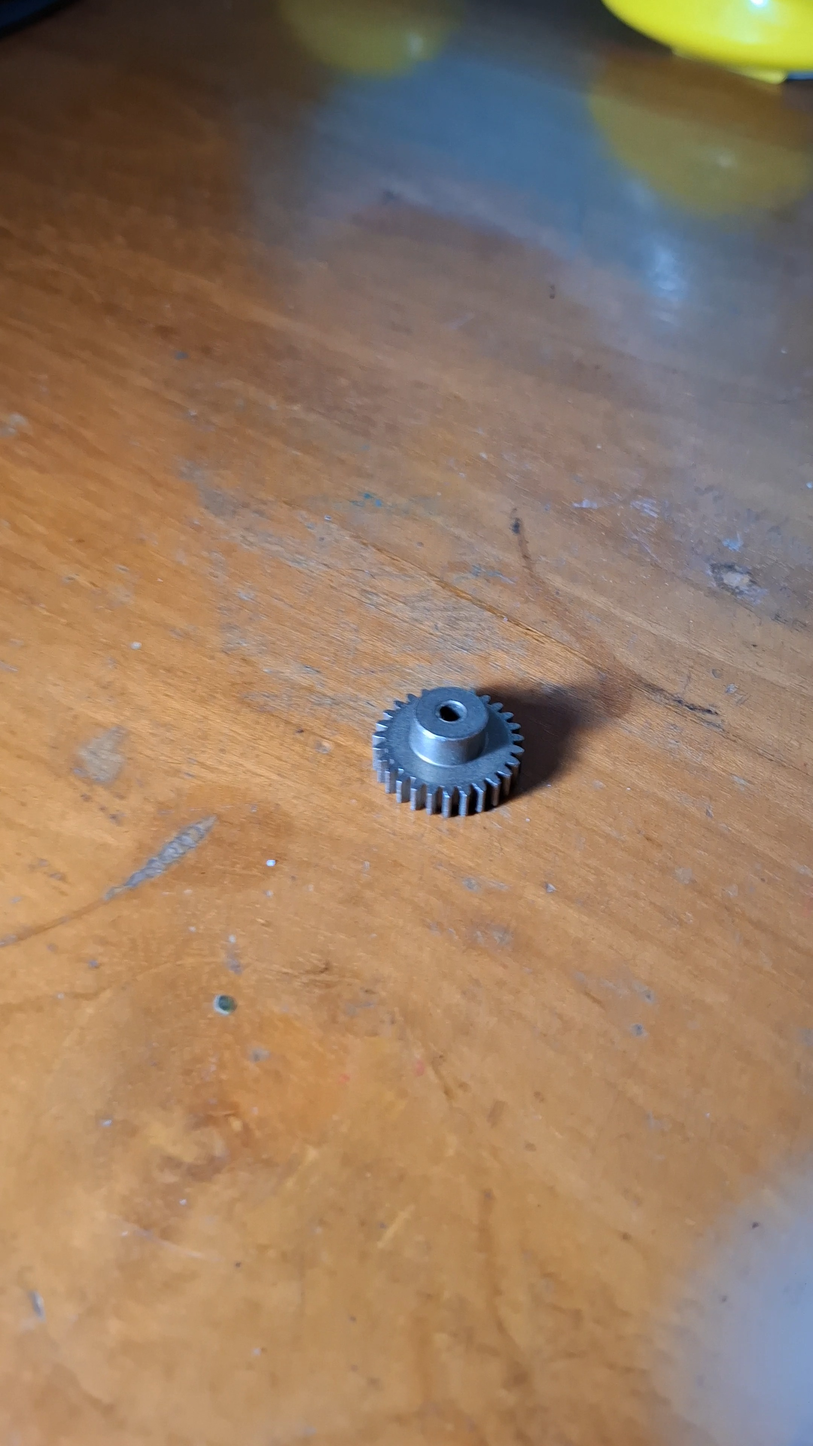spur gear: (372, 685, 523, 817)
